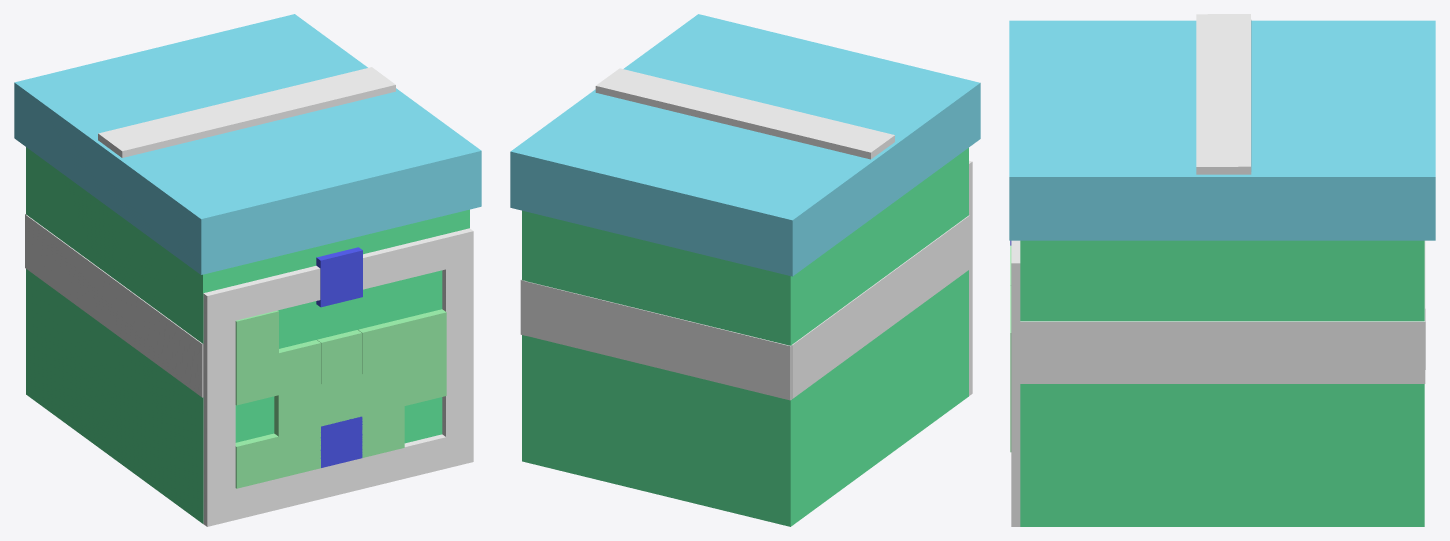
File: case3 (2).fbx
3 views of the same model, side by side, from view 1: azimuth 30°, elevation 25°; view 2: azimuth 150°, elevation 25°; view 3: azimuth 270°, elevation 25° (orthographic). The views are drawn at different scales.
Visible parts, largest first — view 1: Cube.005, Cube, Cube.007, Cube.002, Cube.003, Cube.012, Cube.008, Cube.021, Cube.022, Cube.014, Cube.019, Cube.013 (+8 smaller); view 2: Cube, Cube.005, Cube.006, Cube.002, Cube.003, Cube.007; view 3: Cube, Cube.005, Cube.001, Cube.003, Cube.007.
Part boxes in pixels (x1,y1,x2,y2): Cube.005: (14,14,481,274); Cube: (26,147,469,523); Cube.007: (203,228,473,526); Cube.002: (25,215,203,397); Cube.003: (98,67,395,157); Cube.012: (316,247,362,307); Cube.008: (235,433,278,488); Cube.021: (358,319,404,374); Cube.022: (400,309,446,364); Cube.014: (274,385,320,436); Cube.019: (279,340,320,394); Cube.013: (235,310,278,363); Cube: (522,148,968,526); Cube.005: (510,14,980,276); Cube.006: (521,280,791,400); Cube.002: (791,215,969,398); Cube.003: (595,68,894,159); Cube.007: (969,160,972,395); Cube: (1020,240,1424,526); Cube.005: (1009,20,1435,240); Cube.001: (1020,319,1425,383); Cube.003: (1196,14,1251,174); Cube.007: (1011,240,1020,526).
Size of the model in its own units: 145 by 157 by 167.
